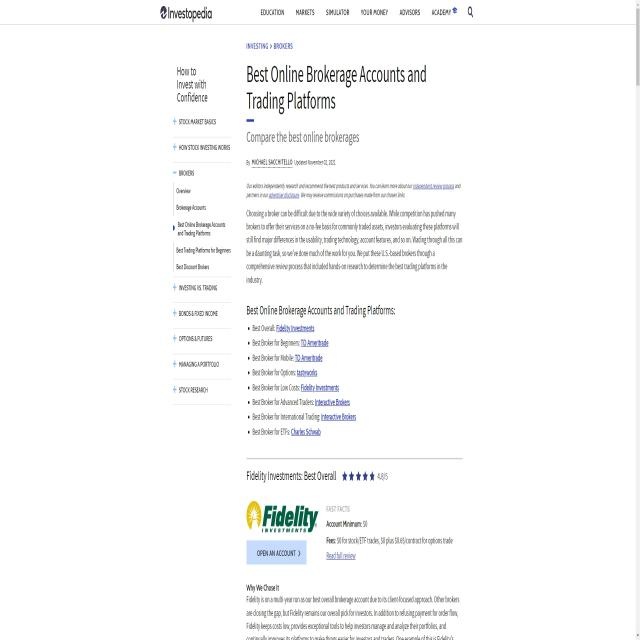menu-bar: (257, 1, 479, 21)
menu-panel: (168, 114, 242, 404)
